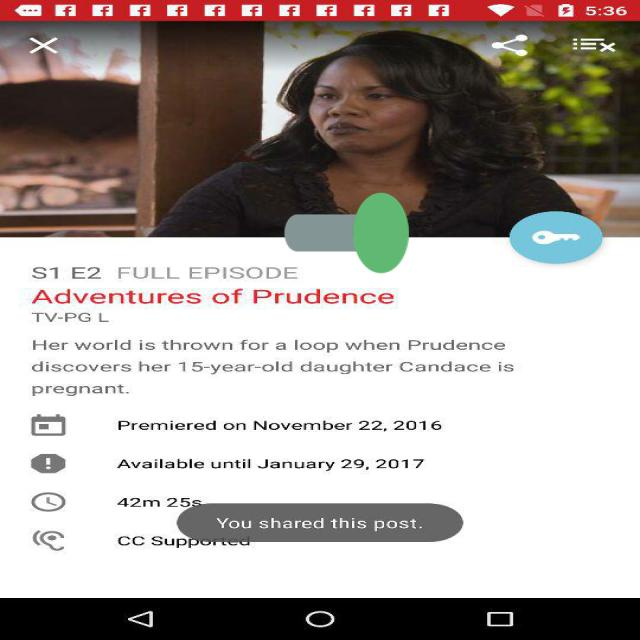social proof: (284, 143, 409, 323)
